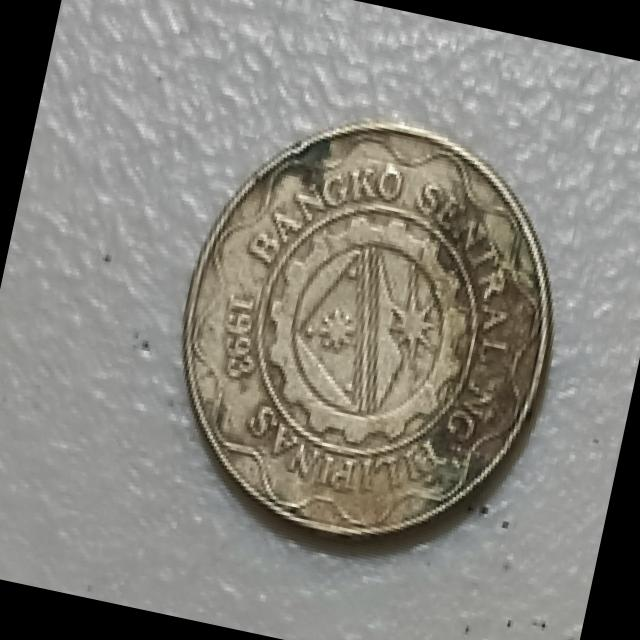5_peso: (184, 123, 548, 534)
